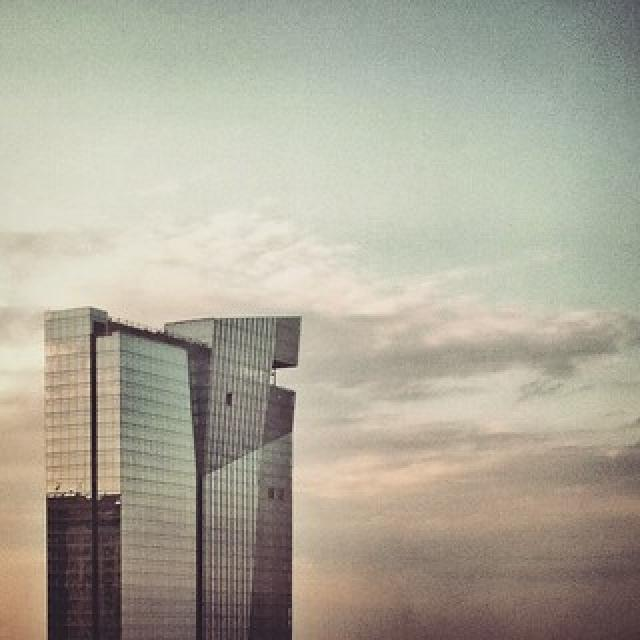building: (32, 294, 206, 640), (159, 311, 297, 637)
